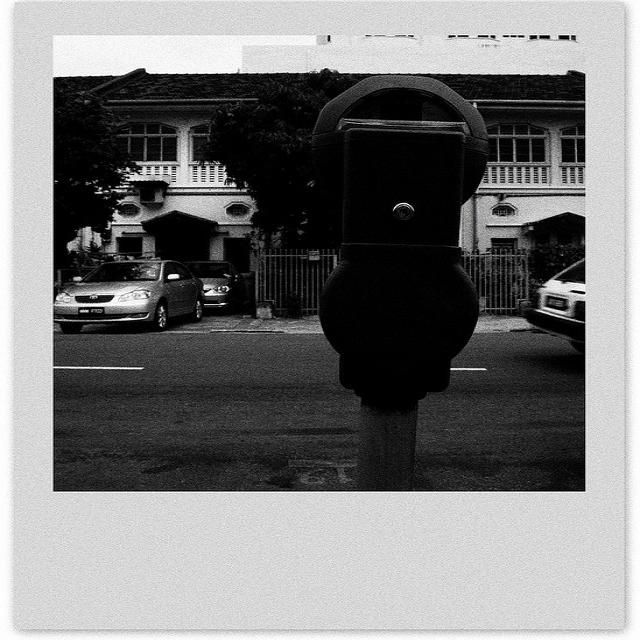Vehicle: (53, 258, 206, 334), (514, 263, 582, 349), (183, 260, 241, 312)
